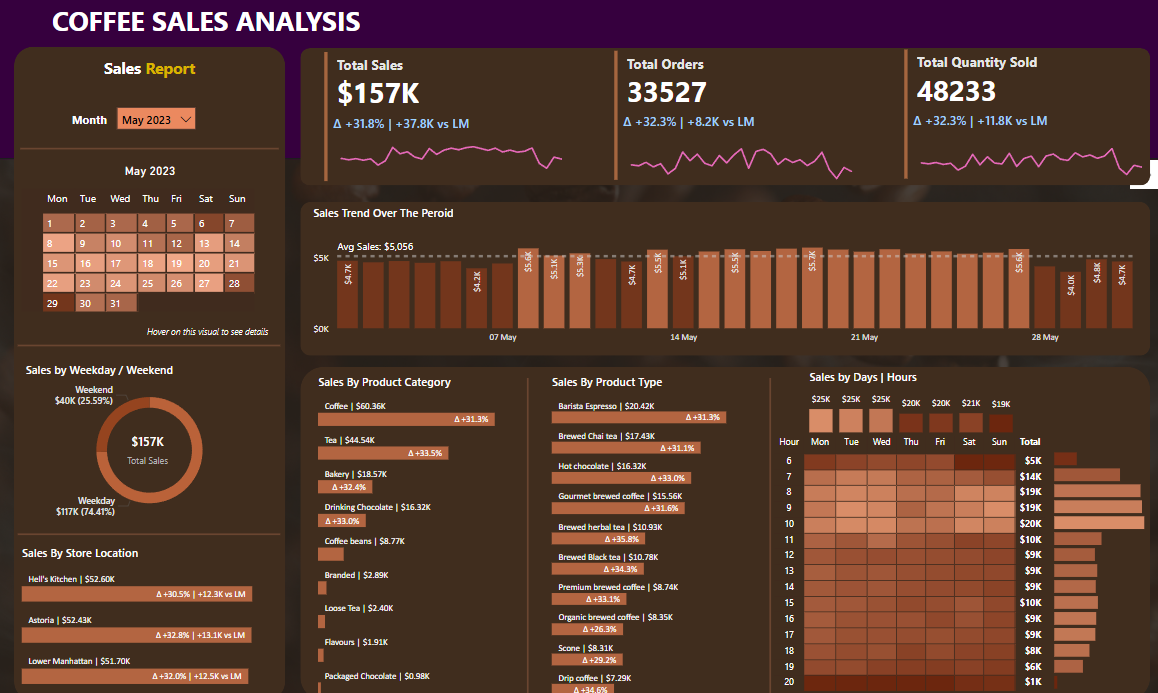

The page's visual inventory and layout, read from the dashboard file:
{"tool":"powerbi","page":{"name":"Coffee Sales Analysis Dashboard","canvas":[1400,850],"ordinal":0},"visuals":[{"type":"shape","box":[0,0,1400.3,199.6],"z":0},{"type":"shape","box":[24,64.5,325.7,785],"z":1000},{"type":"shape","box":[367.7,66,1020.6,165.1],"z":2000},{"type":"textbox","box":[64.5,6,394.7,73.5],"z":3000},{"type":"cardVisual","fields":{"Data":["Transactions.Total Quantity Sold"]},"box":[1088.1,63,300.2,165.1],"z":4000,"group":"g3"},{"type":"cardVisual","fields":{"Data":["Transactions.Total Orders"]},"box":[740.1,64.5,300.2,165.1],"z":4000,"group":"g2"},{"type":"cardVisual","fields":{"Data":["Transactions.Total Sales"]},"box":[392.1,66,300.2,165.1],"z":4000,"group":"g1"},{"type":"slicer","fields":{"Values":["Date Table.Month Year"]},"box":[142.6,132.1,105.1,42],"z":4000},{"type":"group","id":"g1","title":"Group 1","box":[392.1,66,304.7,165.1],"z":5000},{"type":"group","id":"g2","title":"Group 1","box":[740.1,64.5,304.7,165.1],"z":6000},{"type":"lineChart","fields":{"Category":["Date Table.Date.Variation.Date Hierarchy.Year","Date Table.Date.Variation.Date Hierarchy.Quarter","Date Table.Date.Variation.Date Hierarchy.Month","Date Table.Date.Variation.Date Hierarchy.Day"],"Y":["Transactions.Total Quantity Sold"]},"box":[1098.6,142.5,294.2,85.5],"z":6000,"group":"g3"},{"type":"lineChart","fields":{"Category":["Date Table.Date.Variation.Date Hierarchy.Year","Date Table.Date.Variation.Date Hierarchy.Quarter","Date Table.Date.Variation.Date Hierarchy.Month","Date Table.Date.Variation.Date Hierarchy.Day"],"Y":["Transactions.Total Orders"]},"box":[750.6,144,294.2,85.5],"z":6000,"group":"g2"},{"type":"lineChart","fields":{"Category":["Date Table.Date.Variation.Date Hierarchy.Year","Date Table.Date.Variation.Date Hierarchy.Quarter","Date Table.Date.Variation.Date Hierarchy.Month","Date Table.Date.Variation.Date Hierarchy.Day"],"Y":["Transactions.Total Sales"]},"box":[402.6,145.5,294.2,85.5],"z":6000,"group":"g1"},{"type":"group","id":"g3","title":"Group 1","box":[1088.1,63,304.7,165.1],"z":7000},{"type":"pivotTable","fields":{"Rows":["Date Table.Week Number"],"Columns":["Date Table.Day Name"],"Values":["Min(Date Table.Day Number)"]},"box":[28.5,229.6,304.7,190.6],"z":8000},{"type":"card","fields":{"Values":["Min(Date Table.Month Year)"]},"box":[112.6,199.6,150.1,30],"z":9000},{"type":"card","fields":{"Values":["Transactions.Foot Note"]},"box":[166.6,394.7,180.1,28.5],"z":10000},{"type":"shape","box":[28.5,417.2,315.2,12],"z":11000},{"type":"shape","box":[31.5,180.1,310.7,13.5],"z":12000},{"type":"donutChart","title":"Sales by Weekday / Weekend","fields":{"Category":["Date Table.Weekday / Weekend"],"Y":["Transactions.Total Sales"]},"box":[33,442.8,307.7,195.1],"z":13000},{"type":"card","fields":{"Values":["Transactions.Total Sales"]},"box":[138.1,519.3,93.1,55.5],"z":14000},{"type":"shape","box":[28.5,643.9,315.2,12],"z":15000},{"type":"clusteredBarChart","title":"Sales By Store Location","fields":{"Category":["Transactions.store_location"],"Y":["Transactions.Placeholder","Transactions.Total Sales"]},"box":[28.5,663.4,312.2,174.1],"z":16000},{"type":"shape","box":[367.7,250.6,1020.6,185],"z":17000},{"type":"columnChart","title":"Sales Trend Over The Peroid","fields":{"Category":["Transactions.transaction_date"],"Y":["Transactions.Total Sales"]},"box":[378.2,255.1,998.1,175.6],"z":18000},{"type":"shape","box":[367.7,448.8,1020.6,400.7],"z":19000},{"type":"clusteredBarChart","title":"Sales By Product Category","fields":{"Y":["Transactions.Placeholder","Transactions.Total Sales"],"Category":["Transactions.product_category"]},"box":[384.2,457.8,250.6,391.7],"z":20000},{"type":"shape","box":[634.9,462.3,12,379.7],"z":21000},{"type":"clusteredBarChart","title":"Sales By Product Type","fields":{"Y":["Transactions.Placeholder","Transactions.Total Sales"],"Category":["Transactions.product_type"]},"box":[664.9,457.8,250.6,391.7],"z":22000},{"type":"shape","box":[926,462.3,12,379.7],"z":23000},{"type":"pivotTable","fields":{"Rows":["Transactions.Hour"],"Columns":["Date Table.Day Name"],"Values":["Transactions.Total Sales"]},"box":[932,527.3,336.2,322.7],"z":24000},{"type":"barChart","fields":{"Category":["Transactions.Hour"],"Y":["Transactions.Total Sales"]},"box":[1268.2,538.8,120.1,301.7],"z":25000},{"type":"columnChart","title":"Sales by Days | Hours","fields":{"Y":["Transactions.Total Sales"],"Category":["Date Table.Day Name"]},"box":[974.1,451.8,255.1,82],"z":26000},{"type":"textbox","box":[88.6,138.1,66,36],"z":27000},{"type":"textbox","box":[123.1,72,127.6,42],"z":28000}]}

Visuals, with their boxes in screenshot pixels (x1, y1, x2, y2), scaled from the page's 1400x850 canvas onto the 1158x693 screenshot:
shape: region(0, 0, 1157, 163)
shape: region(20, 53, 289, 692)
shape: region(304, 54, 1148, 188)
textbox: region(53, 5, 380, 65)
cardVisual - Transactions.Total Quantity Sold: region(900, 51, 1148, 186)
cardVisual - Transactions.Total Orders: region(612, 53, 860, 187)
cardVisual - Transactions.Total Sales: region(324, 54, 573, 188)
slicer - Date Table.Month Year: region(118, 108, 205, 142)
"Group 1" group: region(324, 54, 576, 188)
"Group 1" group: region(612, 53, 864, 187)
lineChart - Date Table.Date.Variation.Date Hierarchy.Year x Date Table.Date.Variation.Date Hierarchy.Quarter: region(909, 116, 1152, 186)
lineChart - Date Table.Date.Variation.Date Hierarchy.Year x Date Table.Date.Variation.Date Hierarchy.Quarter: region(621, 117, 864, 187)
lineChart - Date Table.Date.Variation.Date Hierarchy.Year x Date Table.Date.Variation.Date Hierarchy.Quarter: region(333, 119, 576, 188)
"Group 1" group: region(900, 51, 1152, 186)
pivotTable - Date Table.Week Number x Date Table.Day Name: region(24, 187, 276, 343)
card - Min(Date Table.Month Year): region(93, 163, 217, 187)
card - Transactions.Foot Note: region(138, 322, 287, 345)
shape: region(24, 340, 284, 350)
shape: region(26, 147, 283, 158)
"Sales by Weekday / Weekend" donutChart: region(27, 361, 282, 520)
card - Transactions.Total Sales: region(114, 423, 191, 469)
shape: region(24, 525, 284, 535)
"Sales By Store Location" clusteredBarChart: region(24, 541, 282, 683)
shape: region(304, 204, 1148, 355)
"Sales Trend Over The Peroid" columnChart: region(313, 208, 1138, 351)
shape: region(304, 366, 1148, 692)
"Sales By Product Category" clusteredBarChart: region(318, 373, 525, 692)
shape: region(525, 377, 535, 686)
"Sales By Product Type" clusteredBarChart: region(550, 373, 757, 692)
shape: region(766, 377, 776, 686)
pivotTable - Transactions.Hour x Date Table.Day Name: region(771, 430, 1049, 692)
barChart - Transactions.Hour x Transactions.Total Sales: region(1049, 439, 1148, 685)
"Sales by Days | Hours" columnChart: region(806, 368, 1017, 435)
textbox: region(73, 113, 128, 142)
textbox: region(102, 59, 207, 93)
